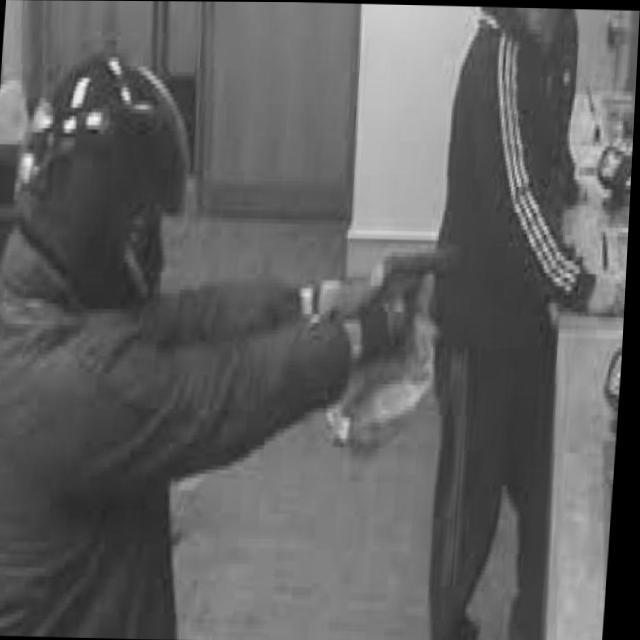weapon: (378, 247, 452, 329)
